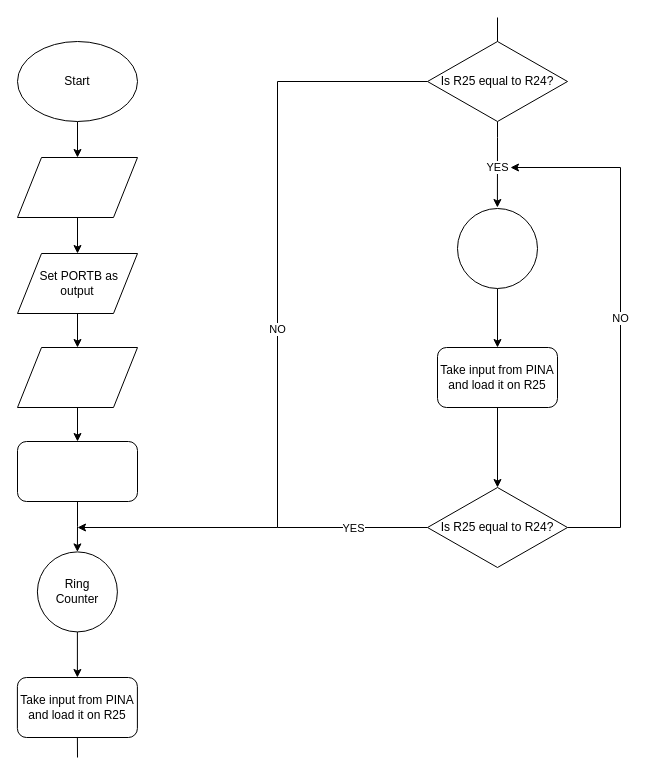
Some shapes in this 647 by 776 pixel diagram are drawn without their labels. The centre of each missing label's shape, as x and y in pixels:
"Initialise Stack (R20)" belongs at (x=77, y=187).
"Johnson Counter" belongs at (x=497, y=248).
"Load 0b11111110 into R24" belongs at (x=77, y=471).
"Set PORTA as input" belongs at (x=77, y=377).
